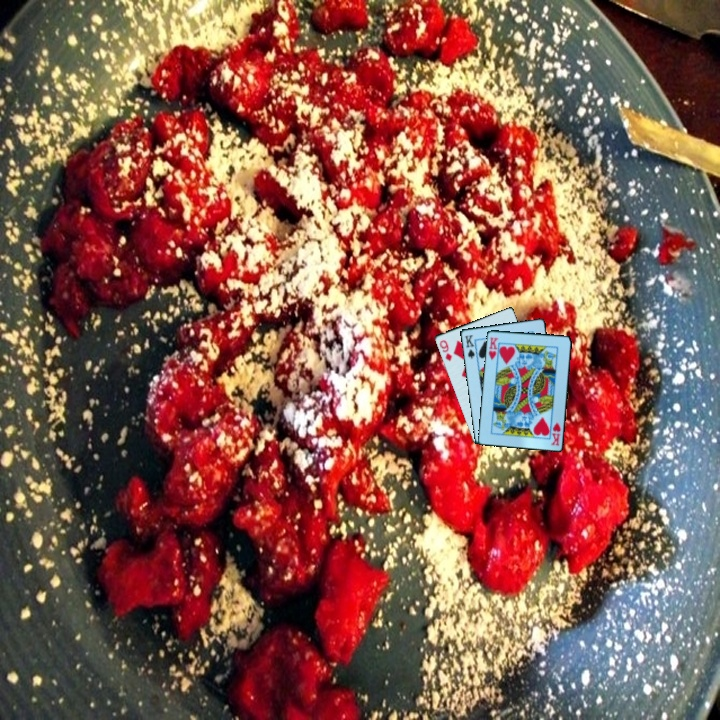9d: (436, 337, 455, 364)
Kh: (485, 334, 501, 363), (547, 419, 563, 448)
Ks: (461, 331, 477, 361)
